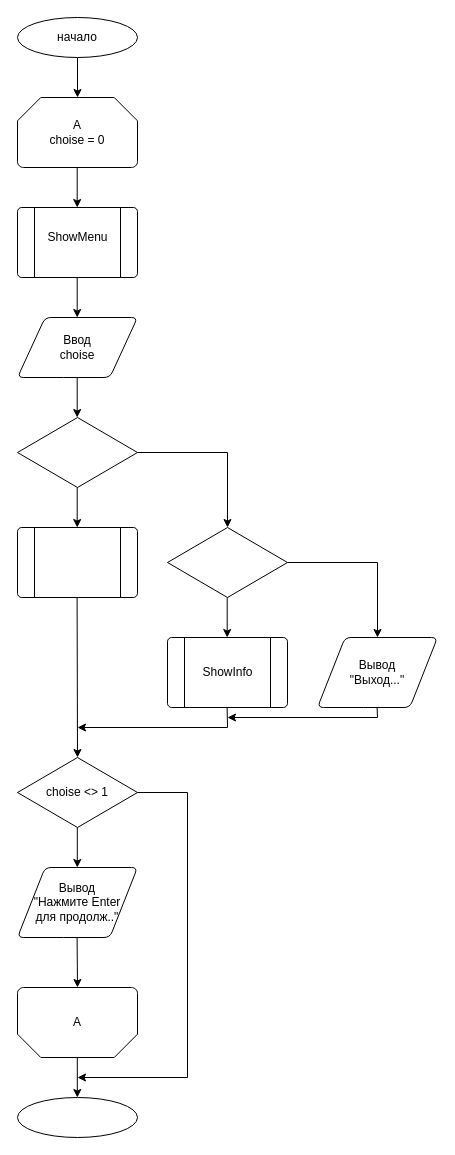
This 455x1155 diagram has some shape labels left out. The shapes that lost their labels are listed below. From the top down, each one's box as (x1, y1, x2, y2) in pixels, then its label:
(16, 416, 138, 488): choise = 1
(16, 526, 138, 598): CalculeteArea
(166, 526, 288, 598): choise = 2
(16, 1096, 138, 1138): конец
